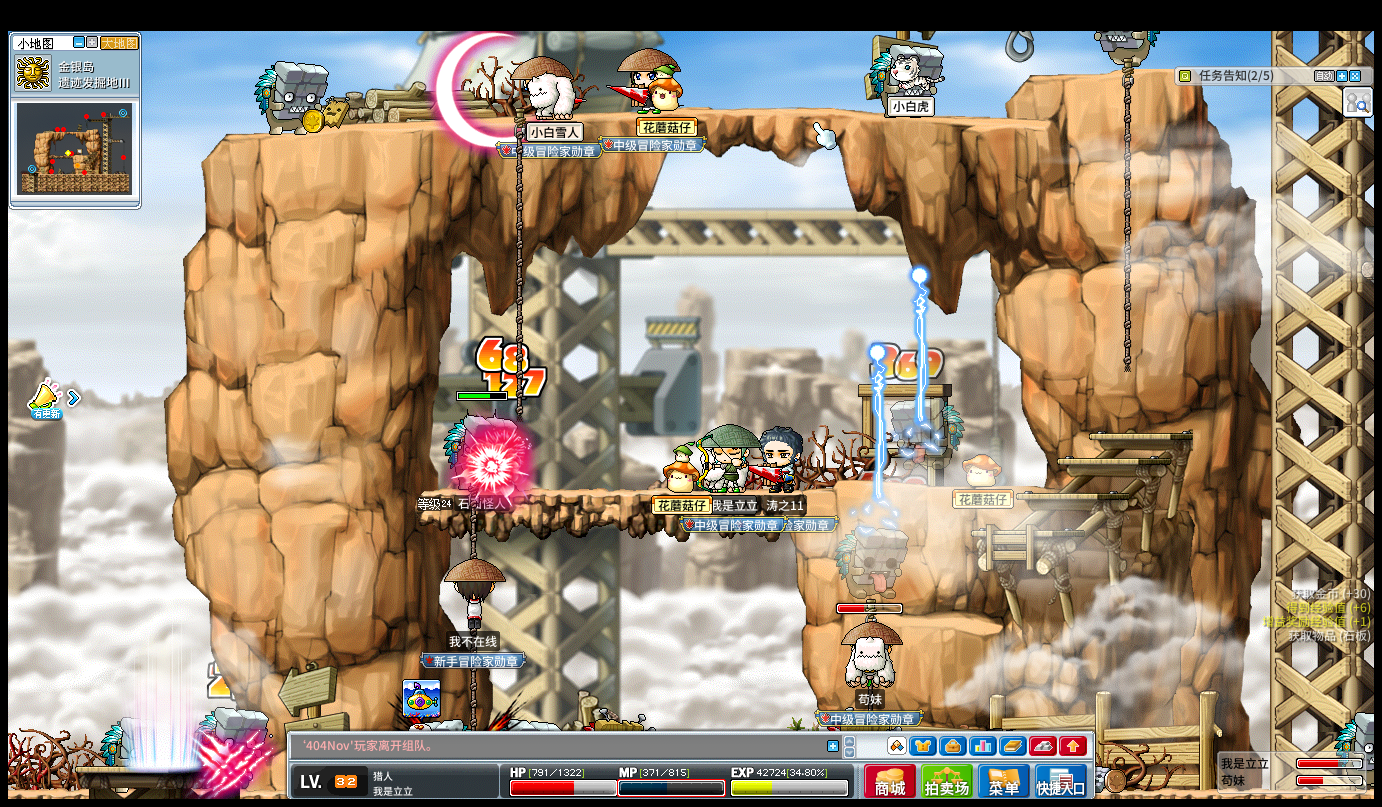floor: (209, 105, 1073, 139), (422, 488, 809, 499), (815, 480, 1081, 491), (858, 481, 1060, 494), (894, 613, 1001, 634), (1028, 66, 1184, 79), (901, 481, 1053, 492), (1087, 429, 1191, 440), (971, 528, 1083, 537), (1050, 456, 1165, 464), (1018, 492, 1129, 500)
monster: (442, 412, 527, 492), (888, 397, 965, 483), (197, 707, 271, 790), (253, 60, 330, 135), (834, 525, 908, 591), (1335, 712, 1381, 792)
rope: (1120, 55, 1134, 380), (513, 110, 526, 428), (465, 485, 479, 557), (467, 668, 476, 728)
